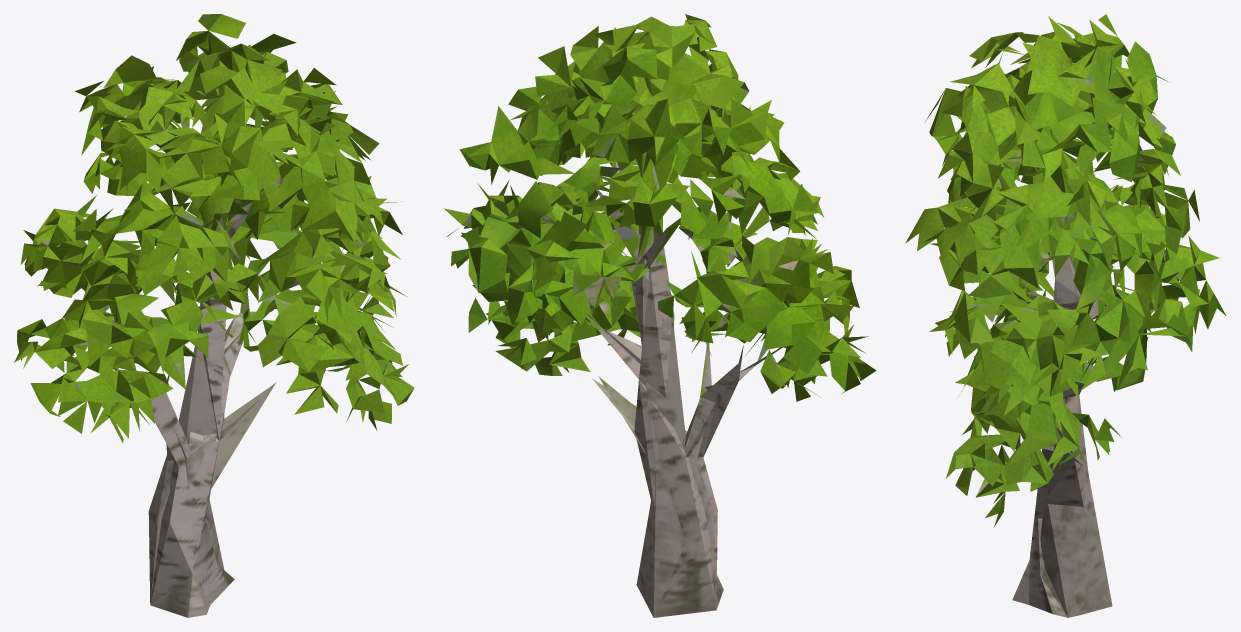
Rendered from tree_birch.glb.
The picture shows the model from 3 angles, left to right: view 1: azimuth 30°, elevation 25°; view 2: azimuth 150°, elevation 25°; view 3: azimuth 270°, elevation 25°; orthographic projection. The views are drawn at different scales.
Bounding box in the file's own units: 1.4 × 1.9 × 0.9228.
1 material, 1 textured.
